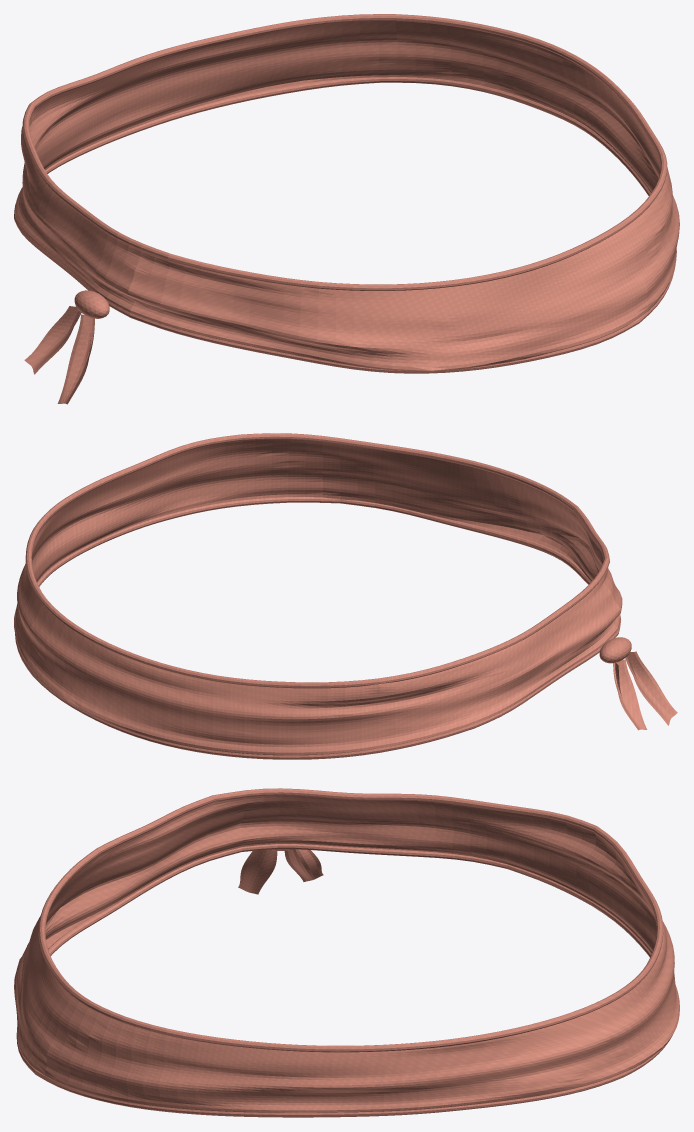
The model's file is side_smithboy_hachimaki.glb.
3 renders of one model, top to bottom at view 1: azimuth 30°, elevation 25°; view 2: azimuth 150°, elevation 25°; view 3: azimuth 270°, elevation 25°, orthographic. The views are drawn at different scales.
Visible parts, largest first — view 1: woven_cloth, inner_cloth, folded_edge, wrap_ties; view 2: woven_cloth, inner_cloth, folded_edge, wrap_ties; view 3: woven_cloth, inner_cloth, folded_edge, wrap_ties.
Part boxes in pixels (left/top/right/bottom): woven_cloth: left=15, top=126, right=679, bottom=371; inner_cloth: left=29, top=21, right=660, bottom=192; folded_edge: left=14, top=14, right=675, bottom=373; wrap_ties: left=24, top=306, right=94, bottom=404; woven_cloth: left=14, top=564, right=622, bottom=755; inner_cloth: left=31, top=439, right=603, bottom=582; folded_edge: left=15, top=433, right=631, bottom=759; wrap_ties: left=613, top=651, right=677, bottom=730; woven_cloth: left=14, top=916, right=679, bottom=1112; inner_cloth: left=45, top=795, right=656, bottom=953; folded_edge: left=16, top=788, right=672, bottom=1117; wrap_ties: left=238, top=849, right=323, bottom=894.
Bounding box in the file's own units: 19.46 × 4.4 × 18.47.
Materials: 4 (4 with a texture image).
